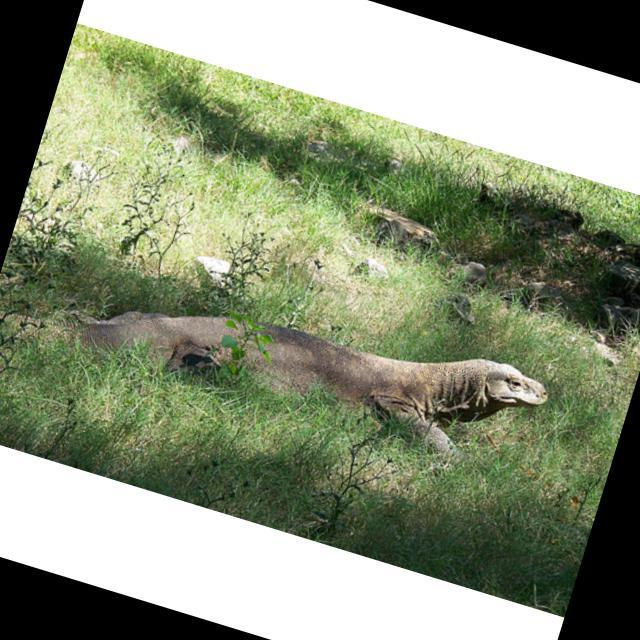KomodoDragon: (72, 239, 558, 485)
